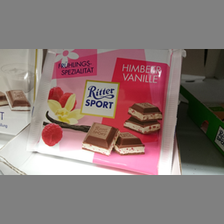chocolate: (30, 49, 182, 176)
